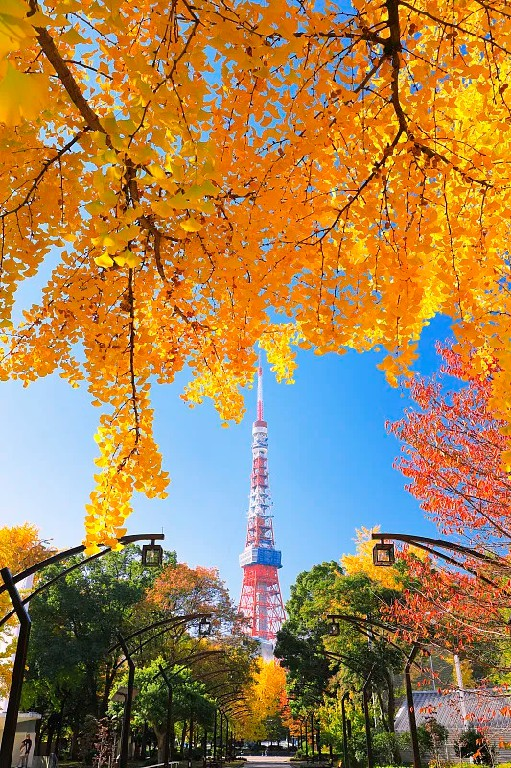Tokyo: (227, 347, 289, 644)
